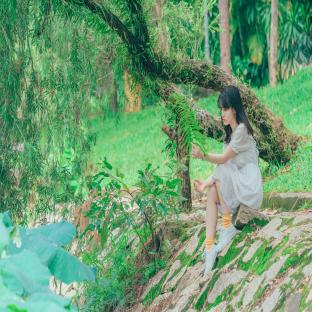Human: (191, 85, 263, 275)
